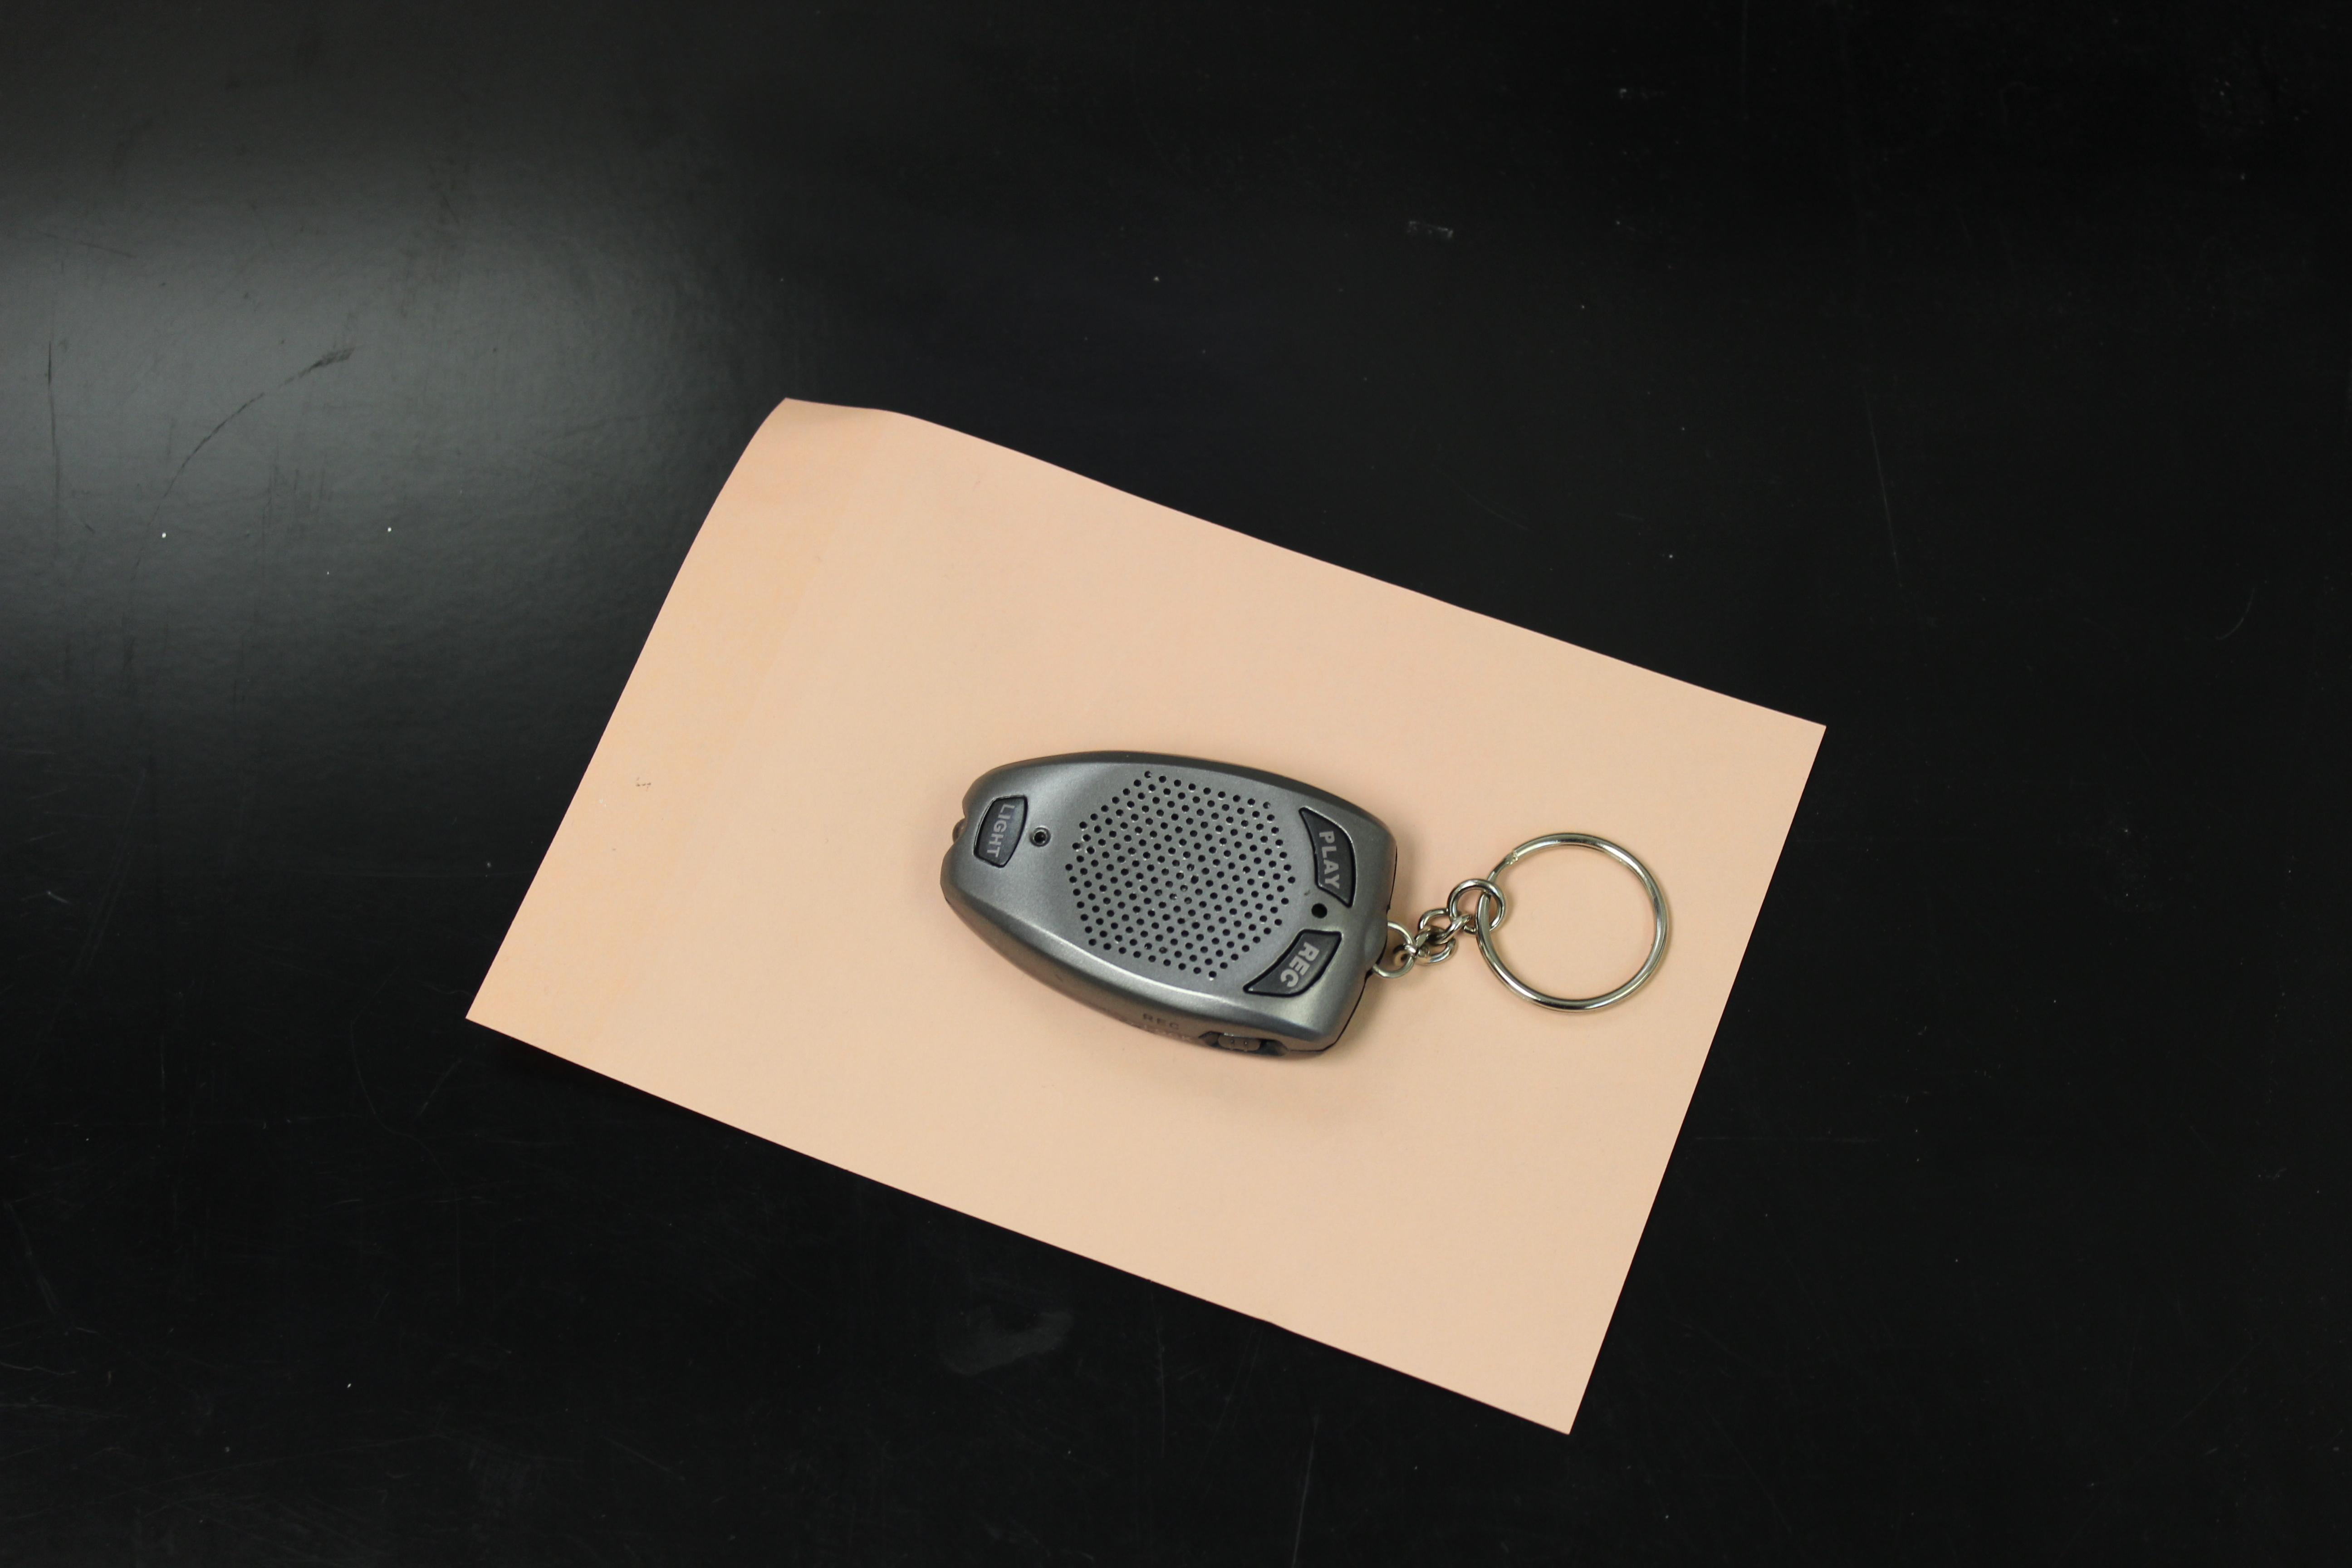voiceRecorder: (922, 709, 1690, 1106)
